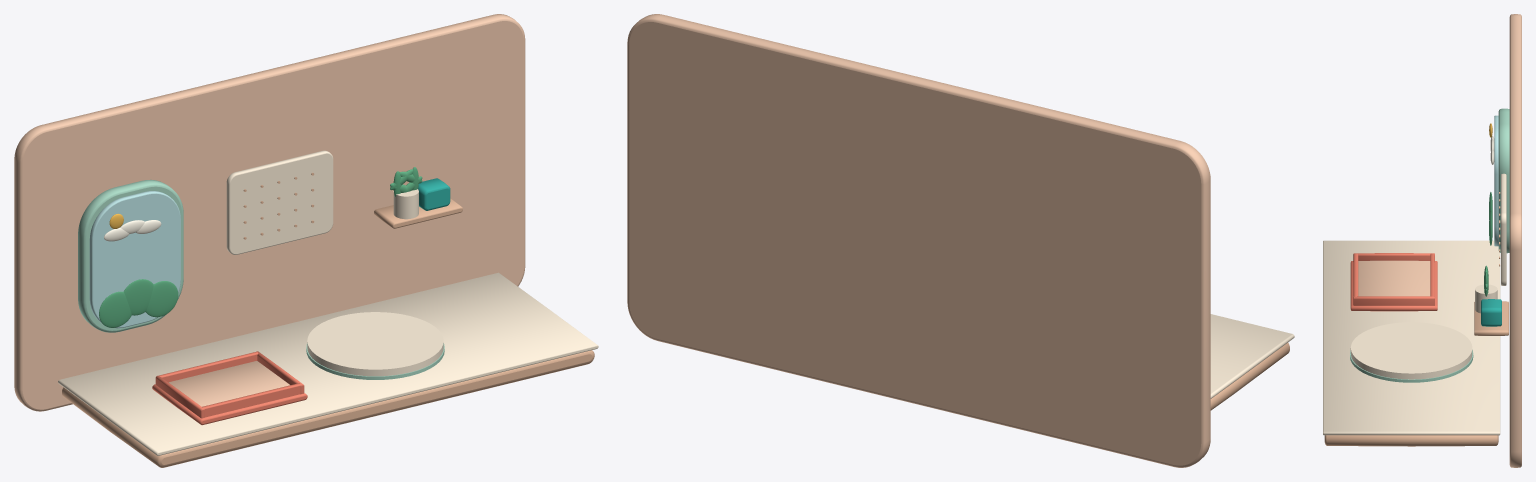
File: workstation.glb
The picture shows the model from 3 angles, left to right: view 1: azimuth 30°, elevation 25°; view 2: azimuth 150°, elevation 25°; view 3: azimuth 270°, elevation 25°; orthographic projection. The views are drawn at different scales.
Visible parts, largest first — view 1: back-wall, bench-top, pegboard, window-glass, pedestal, workbench, window-frame, tray-inset, tray-rim-end (×2), tray-base, shelf, hill-0 (+6 smaller); view 2: back-wall, bench-top, workbench; view 3: bench-top, back-wall, pedestal, tray-inset, workbench, tray-rim-side (×2), window-frame, tray-base, pegboard, window-glass, shelf, box (+3 smaller).
Part boxes in pixels (left/top/right/bottom): back-wall: left=14, top=14, right=525, bottom=411; bench-top: left=58, top=272, right=598, bottom=455; pegboard: left=226, top=150, right=333, bottom=254; window-glass: left=89, top=191, right=180, bottom=328; pedestal: left=307, top=312, right=443, bottom=376; workbench: left=62, top=350, right=594, bottom=467; window-frame: left=78, top=179, right=183, bottom=332; tray-inset: left=169, top=361, right=289, bottom=406; tray-rim-end (×2): left=159, top=351, right=301, bottom=417; tray-base: left=152, top=384, right=307, bottom=425; shelf: left=374, top=198, right=462, bottom=228; hill-0: left=99, top=291, right=131, bottom=327; back-wall: left=627, top=14, right=1210, bottom=467; bench-top: left=1210, top=314, right=1294, bottom=398; workbench: left=1210, top=343, right=1289, bottom=410; bench-top: left=1323, top=240, right=1500, bottom=435; back-wall: left=1509, top=14, right=1521, bottom=467; pedestal: left=1350, top=322, right=1472, bottom=379; tray-inset: left=1358, top=260, right=1430, bottom=296; workbench: left=1324, top=435, right=1498, bottom=446; tray-rim-side (×2): left=1353, top=253, right=1434, bottom=305; window-frame: left=1498, top=108, right=1509, bottom=253; tray-base: left=1350, top=261, right=1437, bottom=311; pegboard: left=1501, top=173, right=1506, bottom=285; window-glass: left=1494, top=115, right=1498, bottom=246; shelf: left=1474, top=301, right=1508, bottom=335; box: left=1481, top=299, right=1501, bottom=326.
Size of the model in its own units: 15 by 8 by 5.72.
